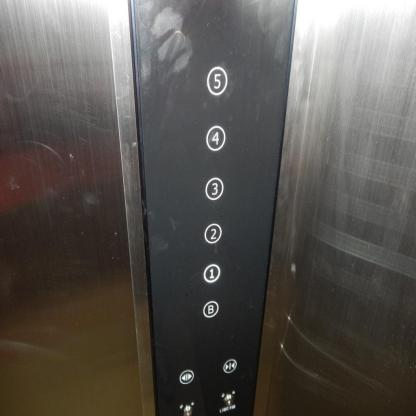1: (202, 260, 221, 284)
2: (203, 221, 222, 245)
3: (203, 174, 225, 202)
4: (204, 122, 227, 152)
5: (205, 64, 229, 96)
B: (202, 298, 220, 318)
close: (220, 356, 238, 376)
keyhole: (219, 389, 237, 409), (178, 400, 196, 416)
open: (178, 366, 196, 386)
